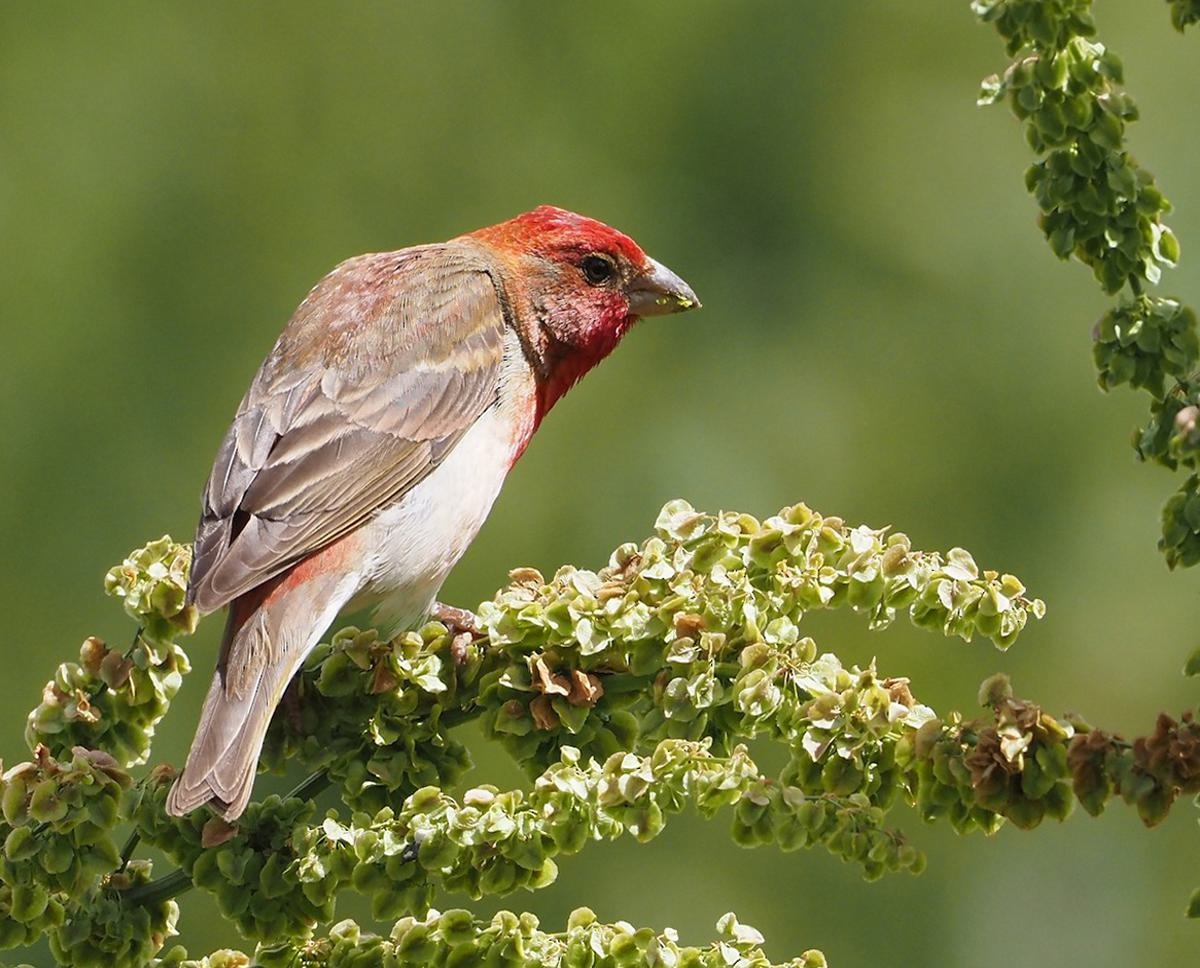rosefinch: (136, 197, 705, 766)
